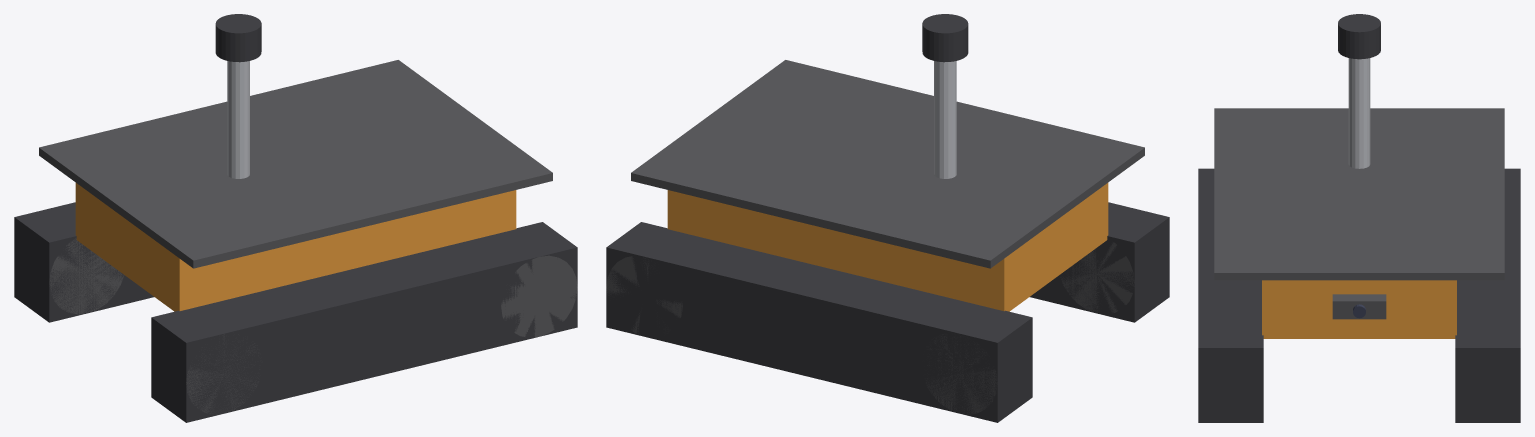
Rendered from bunker.glb.
The picture shows the model from 3 angles, left to right: view 1: azimuth 30°, elevation 25°; view 2: azimuth 150°, elevation 25°; view 3: azimuth 270°, elevation 25°; orthographic projection. The views are drawn at different scales.
Visible parts, largest first — view 1: part_7, part_0, part_6, part_3, part_2, part_4, part_8, part_9, part_1; view 2: part_7, part_3, part_6, part_0, part_1, part_8, part_4, part_9, part_5; view 3: part_7, part_0, part_3, part_6, part_8, part_9, part_10.
Part boxes in pixels (x1,y1,x2,y2): part_7: (39,60,552,268); part_0: (151,222,577,422); part_6: (75,183,516,311); part_3: (14,202,153,322); part_2: (501,255,577,337); part_4: (49,238,124,314); part_8: (227,61,249,178); part_9: (215,14,261,62); part_1: (186,334,259,413); part_7: (631,60,1144,268); part_3: (606,222,1032,422); part_6: (667,183,1108,311); part_0: (1030,202,1169,322); part_1: (1060,242,1134,313); part_8: (934,61,956,178); part_4: (925,333,997,414); part_9: (922,14,968,62); part_5: (606,256,682,333); part_7: (1214,108,1504,280); part_0: (1198,168,1263,422); part_3: (1455,168,1520,422); part_6: (1262,280,1456,338); part_8: (1348,58,1370,168); part_9: (1338,14,1380,59); part_10: (1332,294,1386,319).
Bounding box in the file's own units: 1.03 × 0.756 × 0.778.
